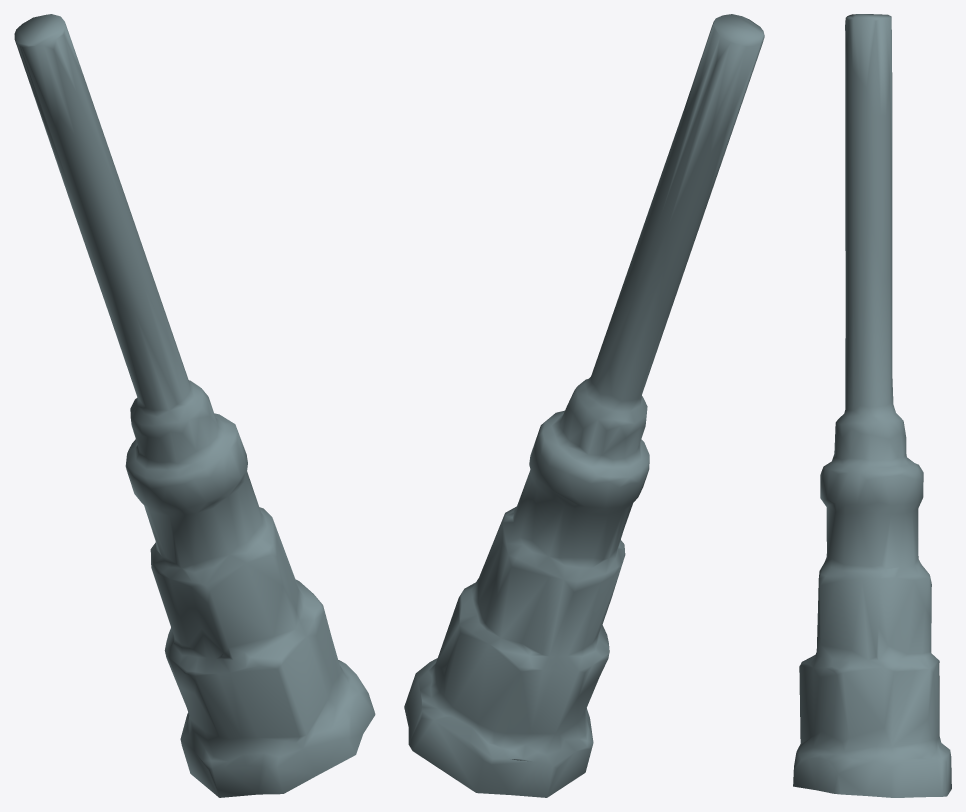
The model's file is hls-sensor-connector.glb.
3 renders of one model, left to right at view 1: azimuth 30°, elevation 25°; view 2: azimuth 150°, elevation 25°; view 3: azimuth 270°, elevation 25°, orthographic. The views are drawn at different scales.
Parts seen in each view (by area): view 1: hls_sensor_connector; view 2: hls_sensor_connector; view 3: hls_sensor_connector.
Boxes of the visible parts, left/top/right/bottom form: hls_sensor_connector: left=14, top=14, right=375, bottom=797; hls_sensor_connector: left=404, top=14, right=764, bottom=797; hls_sensor_connector: left=793, top=14, right=951, bottom=797.
Size of the model in its own units: 0.0894 by 0.2 by 0.0412.
